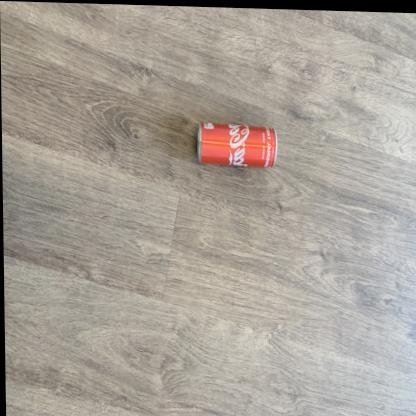trash: (197, 122, 276, 167)
